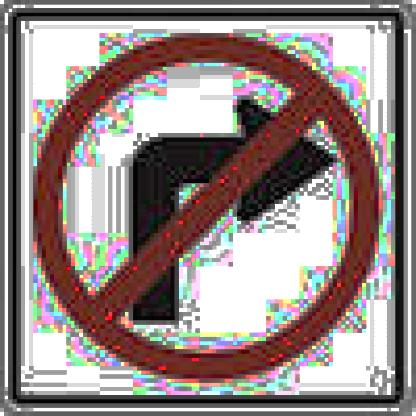No right turn: (29, 34, 381, 384)
